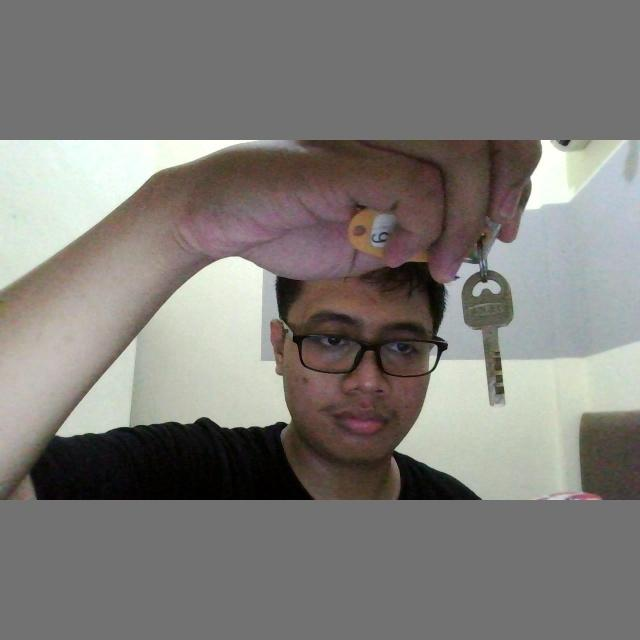Keys: (462, 268, 522, 412)
